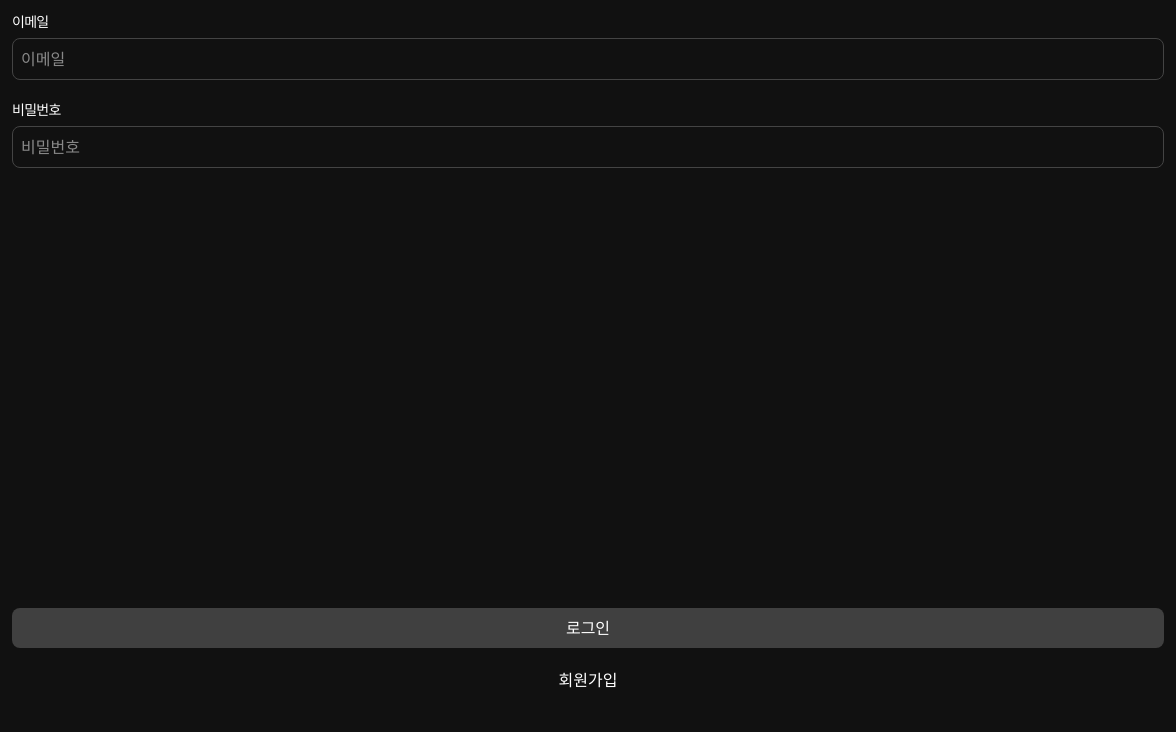
Test: 시나리오 1: 로그인 (/signin) › 유효성 검사 › 이메일이 비어 있으면 제출 시 에러 메시지를 보여준다
Type "password1!" into the password field labelled "비밀번호".
click(588, 147); type("password1!")  # box [12,126,1164,168]
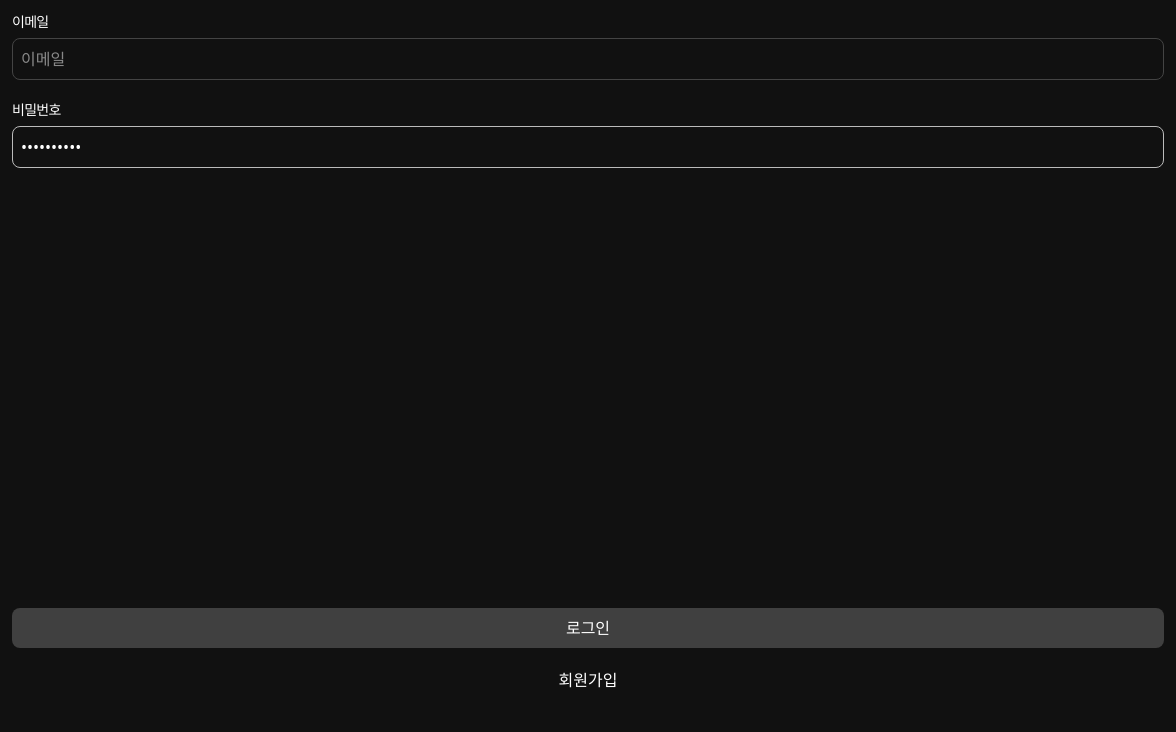
Click the button "로그인".
click(588, 628)  # box [12,608,1164,648]
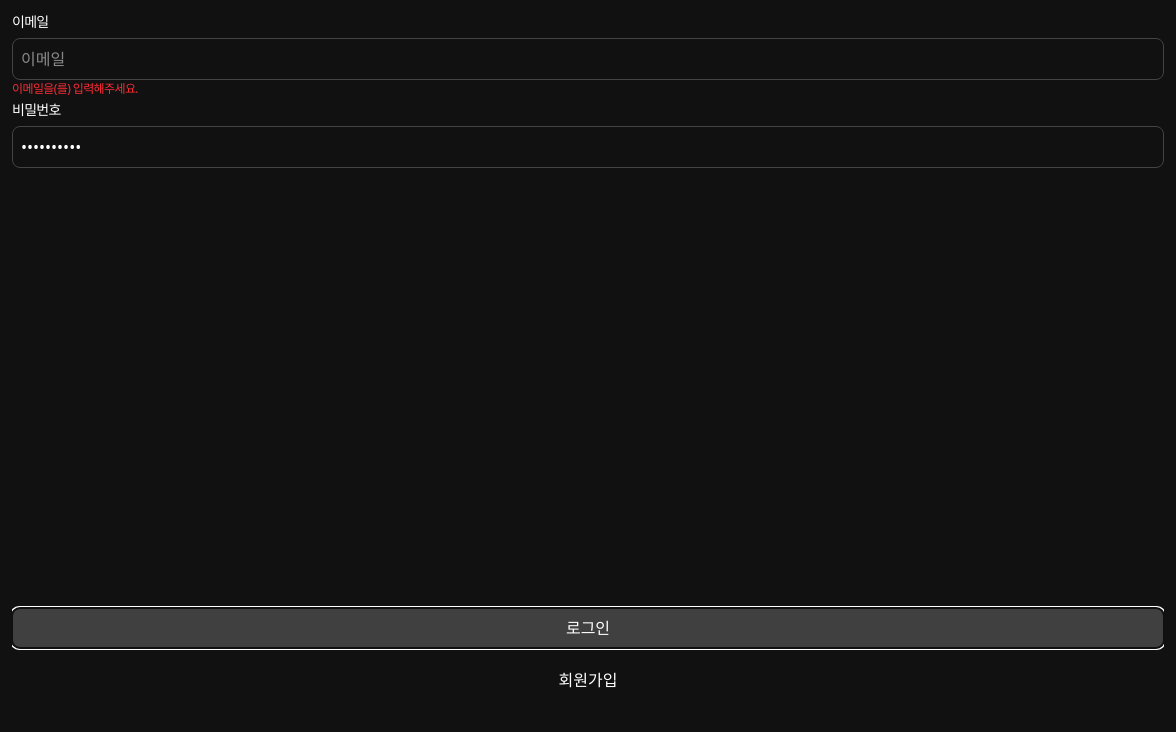
Expected: the text "이메일을(를) 입력해주세요." is shown, [12,80,138,98]
